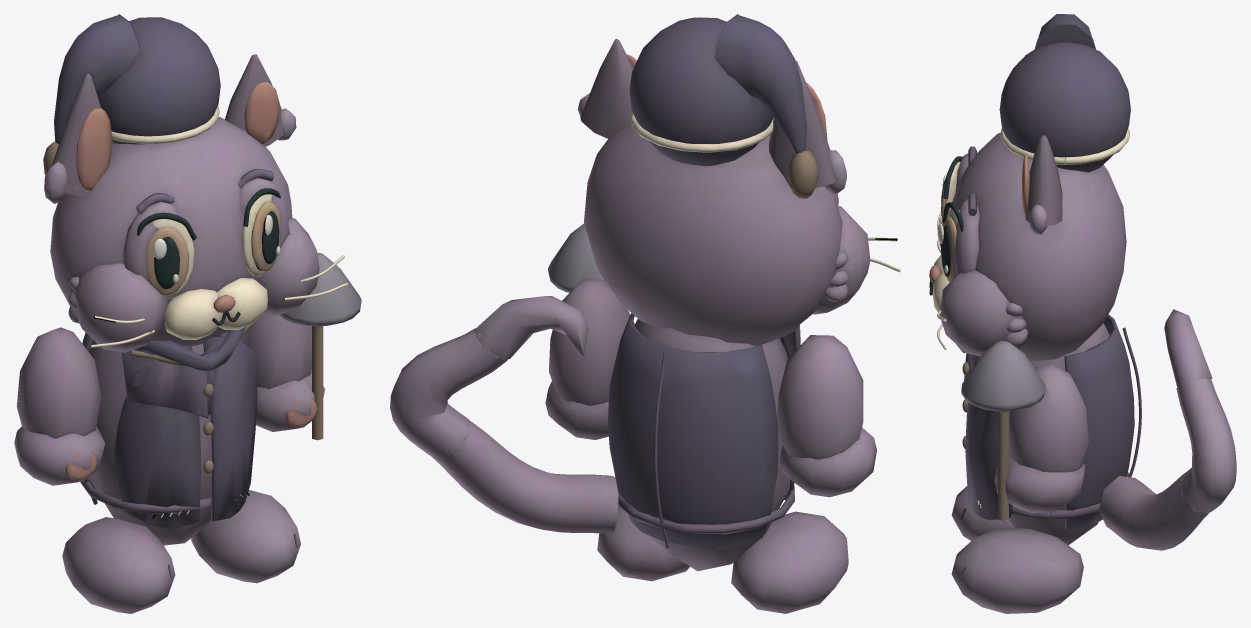
Rendered from velvet.glb.
The picture shows the model from 3 angles, left to right: view 1: azimuth 30°, elevation 25°; view 2: azimuth 150°, elevation 25°; view 3: azimuth 270°, elevation 25°; orthographic projection. The views are drawn at different scales.
Parts seen in each view (by area): view 1: cheek-head, pear-body, arm, hind-paw, hind-paw.001, arm.001, porcelain-eye, rounded-ear-L, bell-wand-shaft, rounded-ear-R, nose; view 2: cheek-head, pear-body, arm, tail-root, hind-paw, arm.001, tail-mid, tail-tip, rounded-ear-R, hind-paw.001, rounded-ear-L, bell-wand-shaft; view 3: cheek-head, pear-body, arm.001, hind-paw.001, tail-mid, tail-root, bell-wand-shaft, rounded-ear-R, tail-tip, porcelain-eye, hind-paw.
Boxes of the visible parts, left/top/right/bottom form: cheek-head: left=43, top=14, right=347, bottom=352; pear-body: left=80, top=324, right=257, bottom=545; arm: left=14, top=327, right=104, bottom=485; hind-paw: left=62, top=517, right=175, bottom=613; hind-paw.001: left=191, top=490, right=300, bottom=583; arm.001: left=248, top=313, right=325, bottom=431; porcelain-eye: left=137, top=188, right=280, bottom=298; rounded-ear-L: left=44, top=73, right=112, bottom=203; bell-wand-shaft: left=279, top=252, right=361, bottom=440; rounded-ear-R: left=225, top=54, right=296, bottom=146; nose: left=212, top=294, right=240, bottom=325; cheek-head: left=584, top=14, right=900, bottom=346; pear-body: left=608, top=313, right=800, bottom=571; arm: left=777, top=335, right=876, bottom=497; tail-root: left=431, top=420, right=618, bottom=533; hind-paw: left=731, top=511, right=848, bottom=613; arm.001: left=545, top=279, right=634, bottom=439; tail-mid: left=390, top=328, right=507, bottom=458; tail-tip: left=473, top=296, right=588, bottom=360; rounded-ear-R: left=577, top=39, right=636, bottom=139; hind-paw.001: left=597, top=506, right=689, bottom=581; rounded-ear-L: left=768, top=61, right=846, bottom=193; bell-wand-shaft: left=548, top=223, right=604, bottom=292; cheek-head: left=932, top=14, right=1130, bottom=360; pear-body: left=956, top=314, right=1141, bottom=545; arm.001: left=994, top=363, right=1088, bottom=513; hind-paw.001: left=951, top=528, right=1083, bottom=613; tail-mid: left=1176, top=378, right=1236, bottom=512; tail-root: left=1099, top=470, right=1209, bottom=550; bell-wand-shaft: left=961, top=341, right=1045, bottom=520; rounded-ear-R: left=1022, top=135, right=1062, bottom=234; tail-tip: left=1164, top=309, right=1212, bottom=387; porcelain-eye: left=937, top=156, right=963, bottom=282; hind-paw: left=951, top=486, right=1012, bottom=540.
Size of the model in its own units: 1.08 by 1.62 by 0.8362.
1 material, 1 textured.
